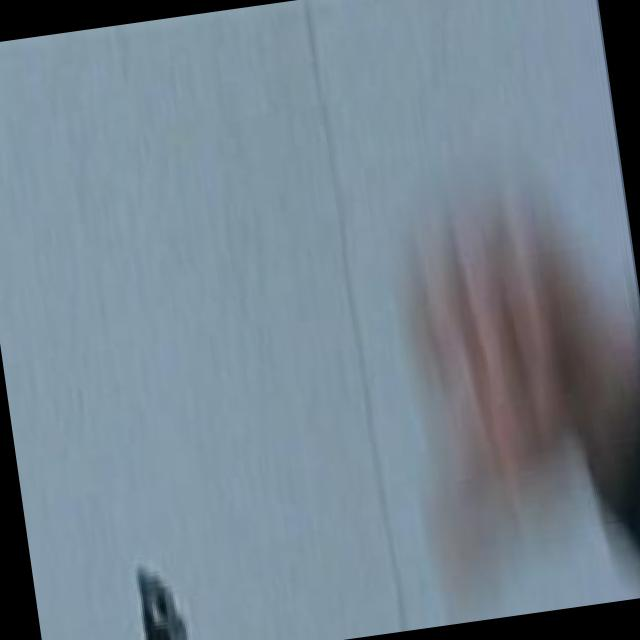Guns: (52, 527, 269, 640)
